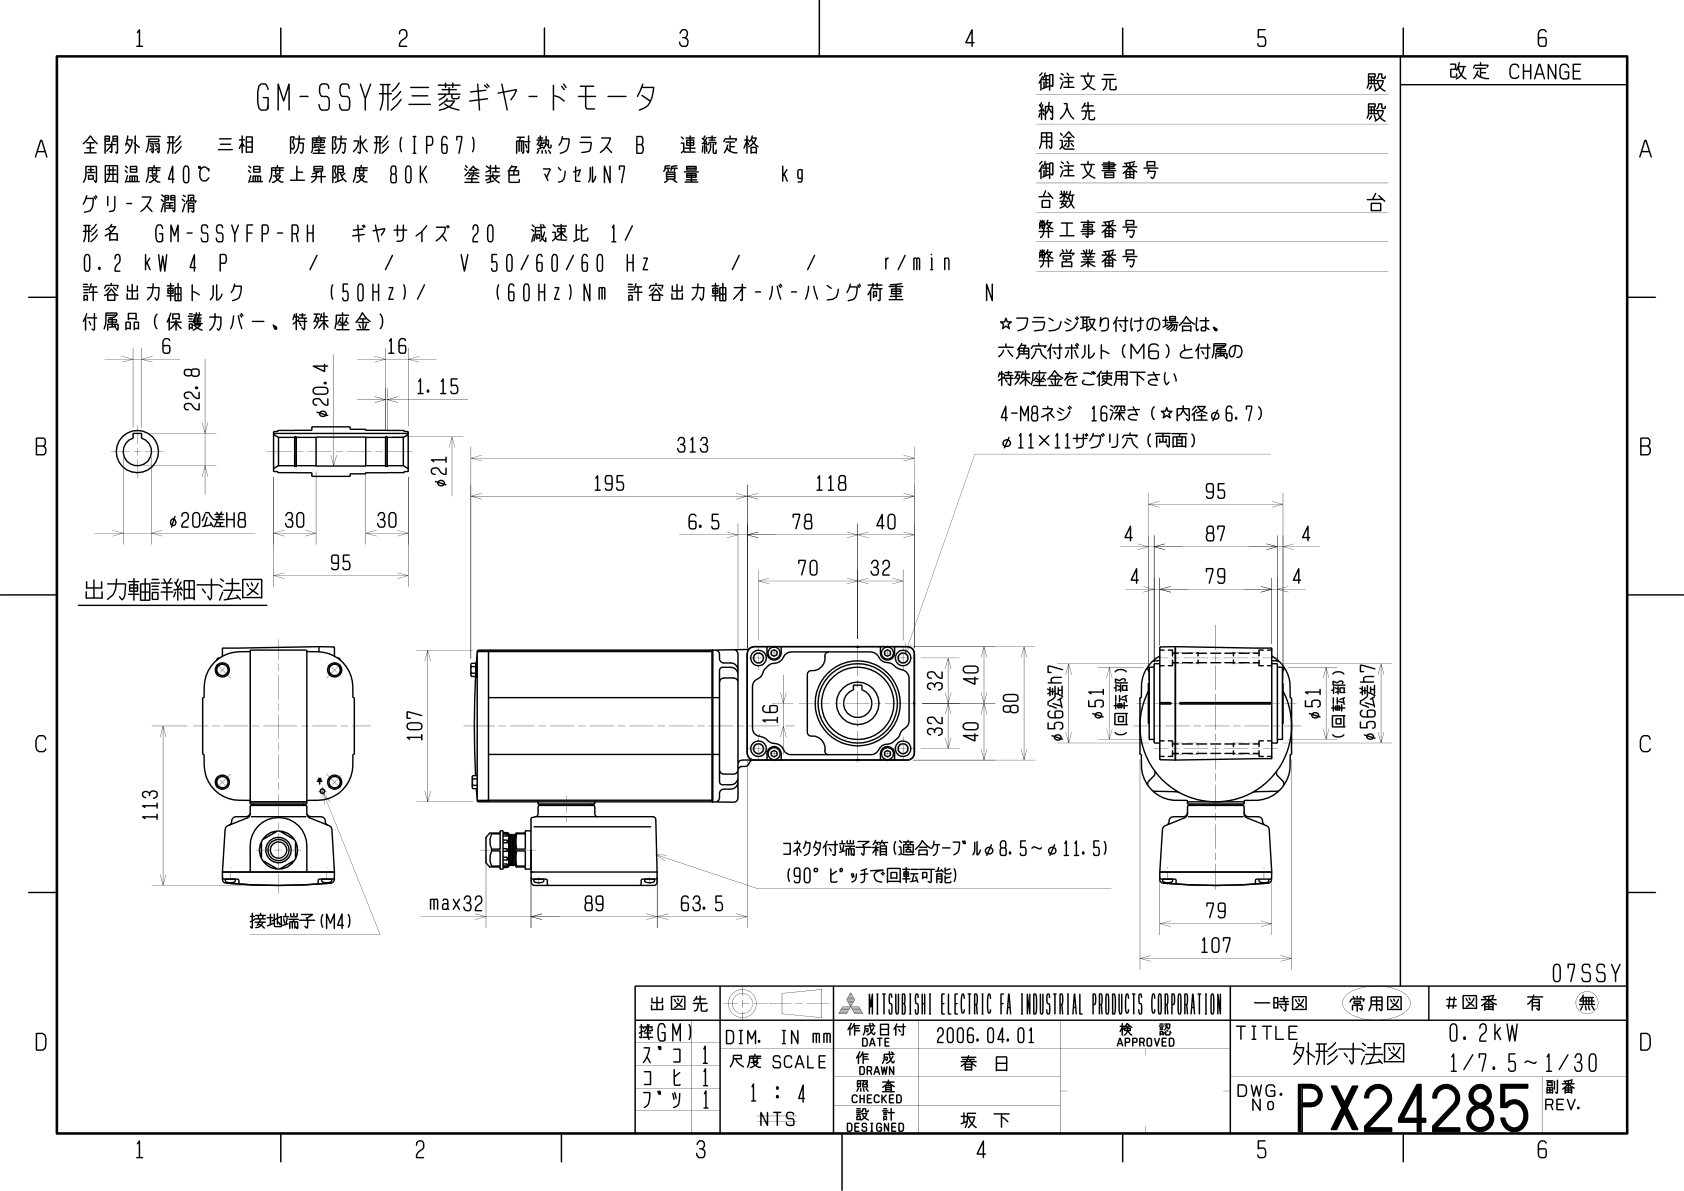GM_SSY_IP67_三相: (70, 333, 1393, 973)
